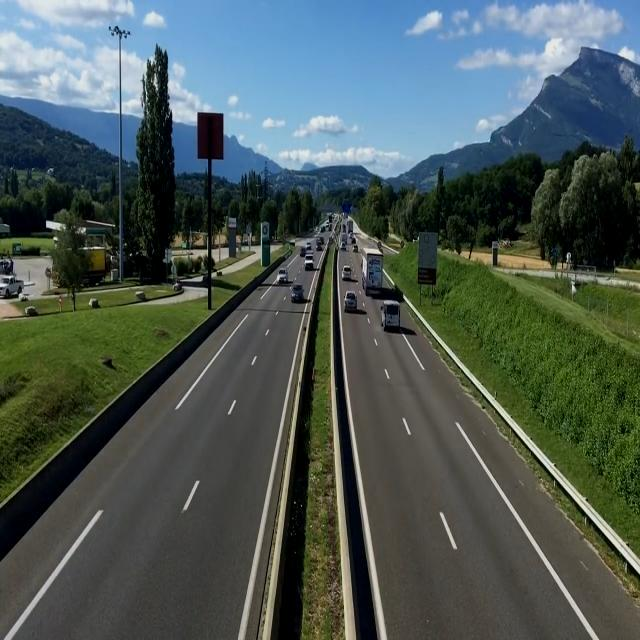Car: (343, 292, 358, 312), (290, 284, 304, 302), (278, 268, 288, 284), (342, 266, 352, 280), (340, 242, 346, 250), (353, 244, 358, 252)
Truck: (361, 247, 385, 295), (0, 276, 25, 296)
Van: (380, 300, 400, 332), (304, 254, 314, 272)
